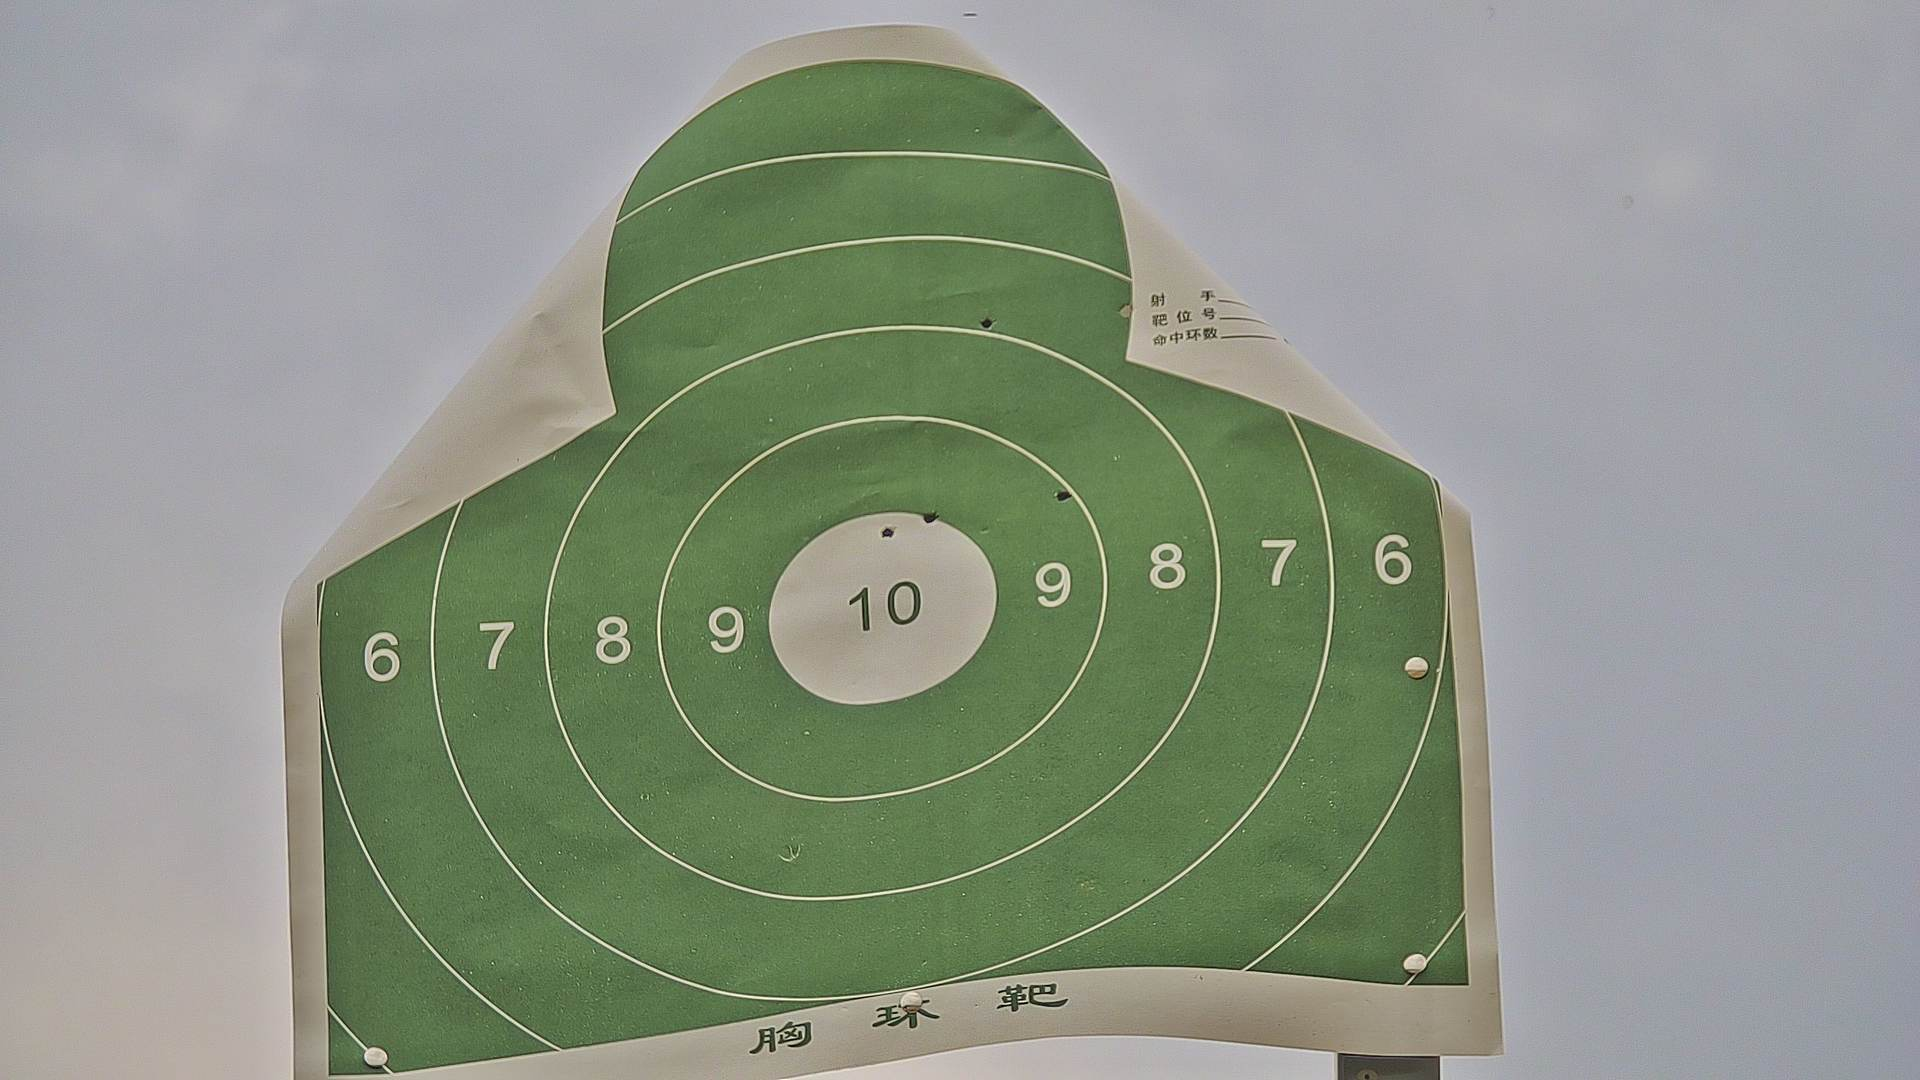hole: (978, 313, 1000, 334), (920, 510, 944, 525), (1054, 485, 1073, 502), (880, 522, 895, 543), (1116, 303, 1133, 320), (873, 599, 887, 607)
target: (315, 61, 1473, 1072)
ten: (767, 513, 1002, 707)
